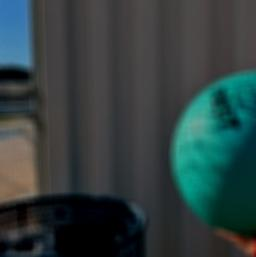algae: (167, 65, 256, 235)
